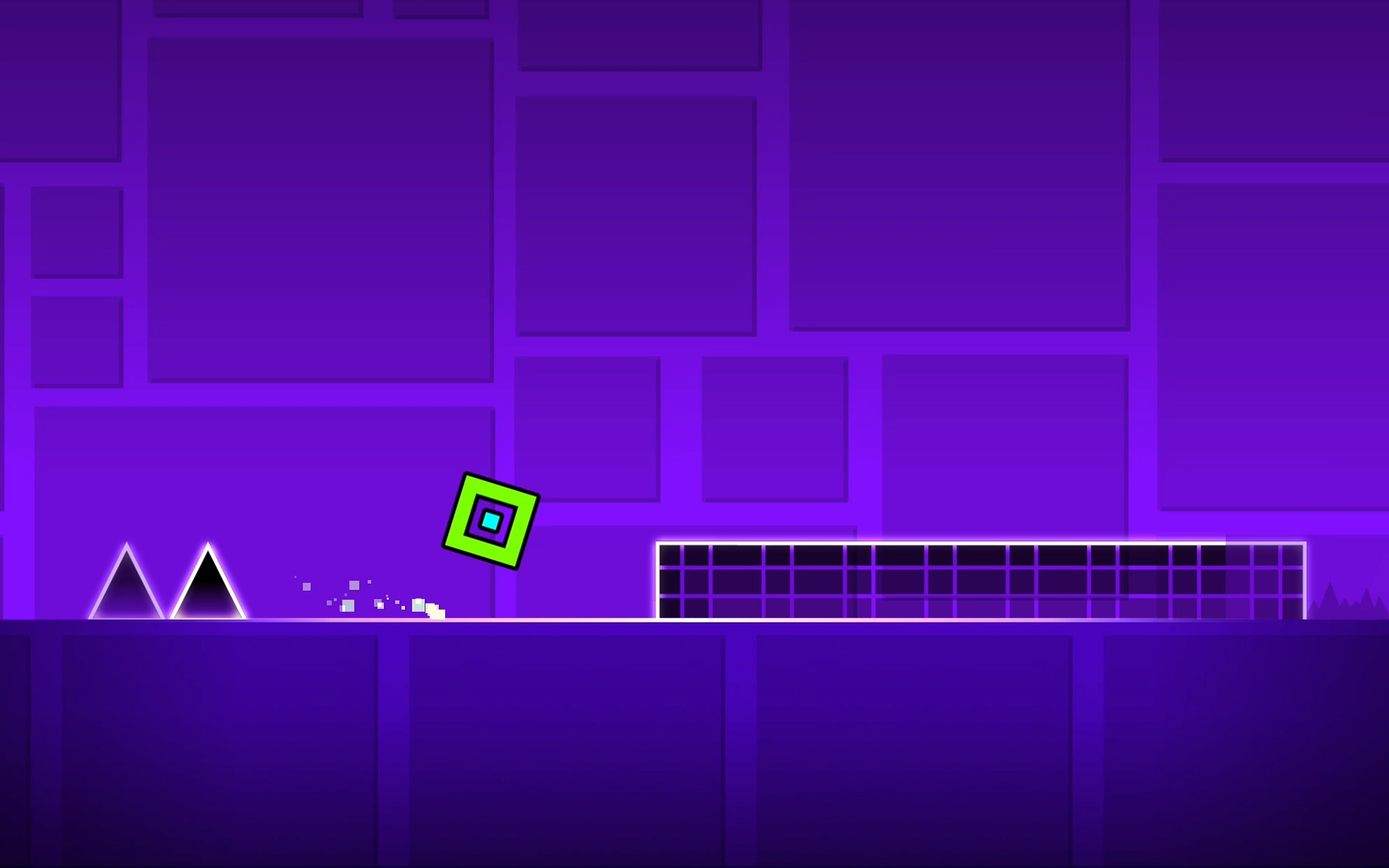Block2: (659, 540, 1303, 614)
Player: (441, 472, 538, 566)
Spike: (170, 542, 246, 618), (87, 542, 163, 618)
Spike3: (1308, 584, 1389, 617)
